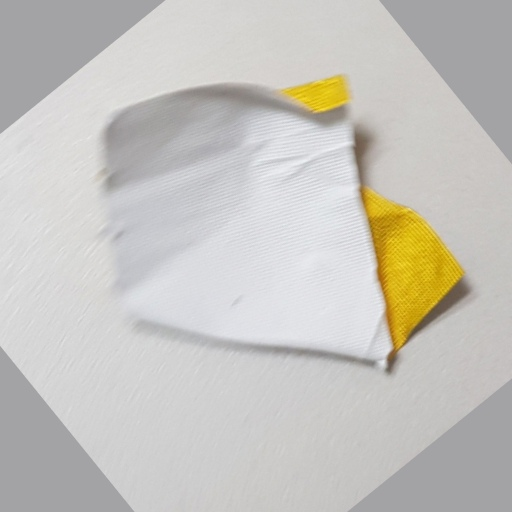Paper_3: (100, 74, 467, 399)
